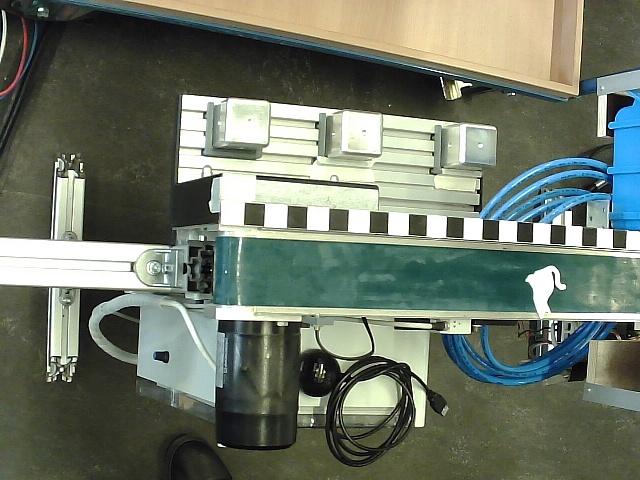cat: (525, 265, 566, 320)
